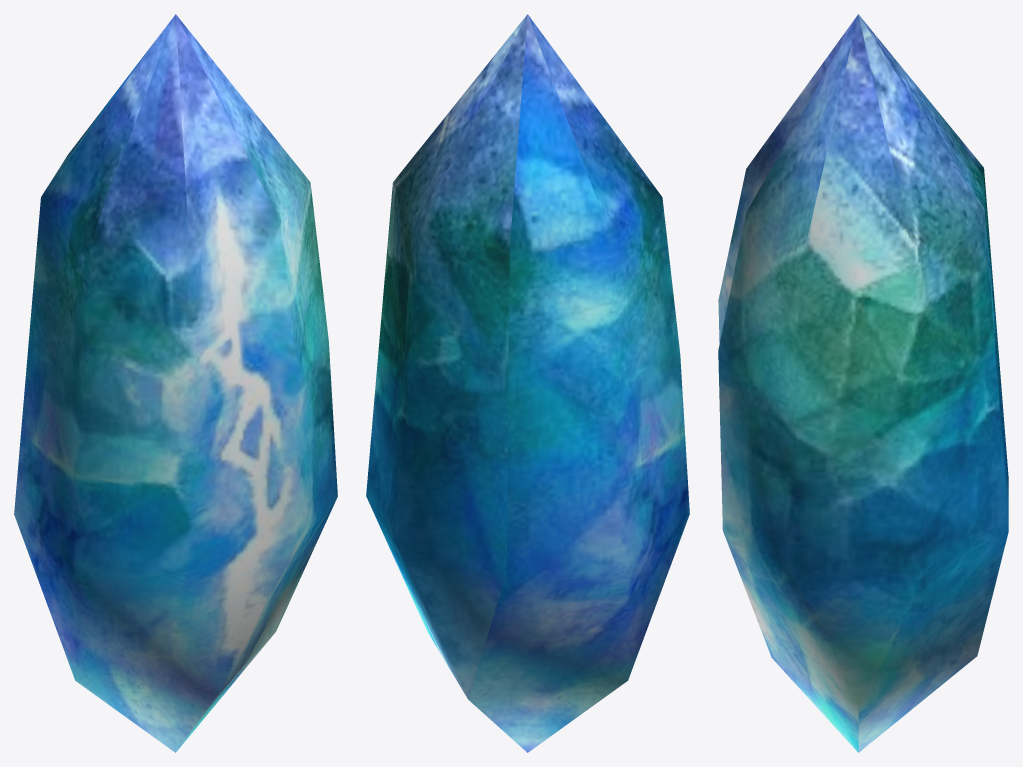
File: ins_quest_teleport.glb
The picture shows the model from 3 angles, left to right: view 1: azimuth 30°, elevation 25°; view 2: azimuth 150°, elevation 25°; view 3: azimuth 270°, elevation 25°; orthographic projection.
Parts seen in each view (by area): view 1: res\quest\ins_quest_teleport.bsr; view 2: res\quest\ins_quest_teleport.bsr; view 3: res\quest\ins_quest_teleport.bsr.
Part boxes in pixels (bbox=[...]): res\quest\ins_quest_teleport.bsr: bbox=[14, 14, 337, 752]; res\quest\ins_quest_teleport.bsr: bbox=[366, 14, 689, 752]; res\quest\ins_quest_teleport.bsr: bbox=[718, 14, 1008, 752].
Size of the model in its own units: 10.51 by 28.41 by 10.12.
Materials: 1 (1 with a texture image).
